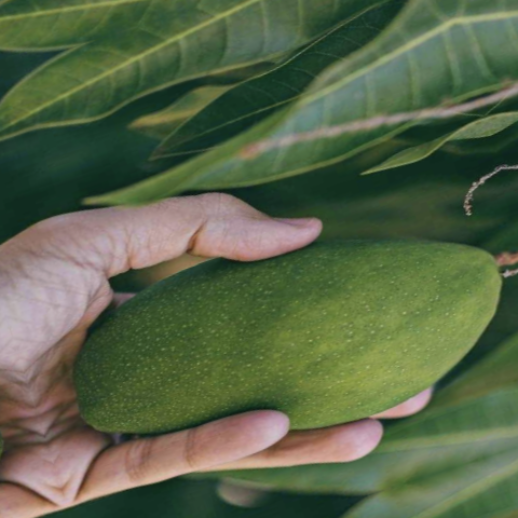mango: (22, 136, 518, 518)
